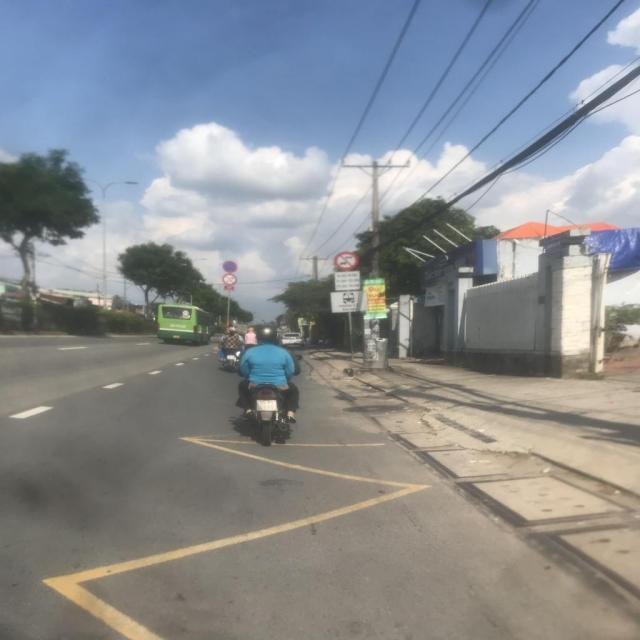107-cam-oto-khach-va-oto-tai: (332, 252, 360, 272)
